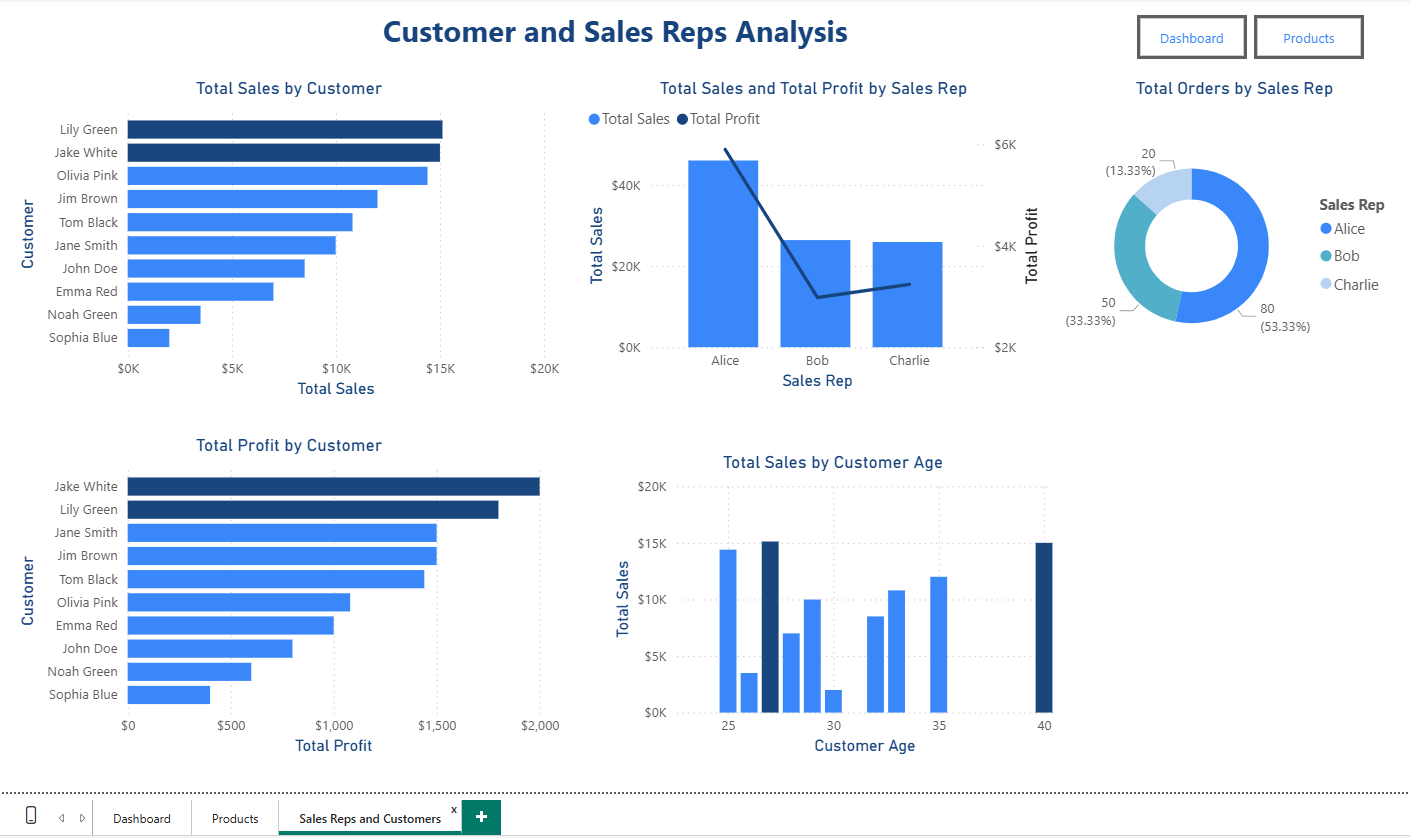

Layout of this report page (visuals, bound fields, positions):
{"tool":"powerbi","page":{"name":"Sales Reps and Customers","canvas":[1280,720],"ordinal":2},"visuals":[{"type":"clusteredBarChart","fields":{"Y":["Sum(Fact_Table.SaleAmount_USD)"],"Category":["Customers.CustomerName"]},"box":[12.7,71.6,500.6,295.6],"z":0},{"type":"textbox","box":[224,6.3,670.1,54.4],"z":1000},{"type":"clusteredBarChart","fields":{"Y":["Sum(Fact_Table.Profit_USD)"],"Category":["Customers.CustomerName"]},"box":[12.7,395.4,500.6,295.6],"z":2000},{"type":"lineClusteredColumnComboChart","fields":{"Category":["SalesReps.SalesRep"],"Y":["Sum(Fact_Table.SaleAmount_USD)"],"Y2":["Sum(Fact_Table.Profit_USD)"]},"box":[528.7,71.6,419.8,288.4],"z":3000},{"type":"donutChart","fields":{"Category":["SalesReps.SalesRep"],"Y":["Sum(Fact_Table.Quantity)"]},"box":[960.3,71.6,320.1,288.4],"z":4000},{"type":"columnChart","title":"Total Sales by Customer Age","fields":{"Y":["Sum(Fact_Table.SaleAmount_USD)"],"Category":["Customers.CustomerAge"]},"box":[552.2,410.8,408.1,280.2],"z":5000},{"type":"actionButton","box":[1031.9,15.4,99.7,39.9],"z":5001},{"type":"actionButton","box":[1138,15.4,99.7,39.9],"z":5002}]}

Visuals, with their boxes on the page's 1280x720 design canvas (x1, y1, x2, y2). These are canvas units, not pixel positions in the 1410x838 screenshot, which may show the page scaled, cropped or inside an application window:
clusteredBarChart - Sum(Fact_Table.SaleAmount_USD) x Customers.CustomerName: locate(13, 72, 513, 367)
textbox: locate(224, 6, 894, 61)
clusteredBarChart - Sum(Fact_Table.Profit_USD) x Customers.CustomerName: locate(13, 395, 513, 691)
lineClusteredColumnComboChart - SalesReps.SalesRep x Sum(Fact_Table.SaleAmount_USD): locate(529, 72, 948, 360)
donutChart - SalesReps.SalesRep x Sum(Fact_Table.Quantity): locate(960, 72, 1280, 360)
"Total Sales by Customer Age" columnChart: locate(552, 411, 960, 691)
actionButton: locate(1032, 15, 1132, 55)
actionButton: locate(1138, 15, 1238, 55)
